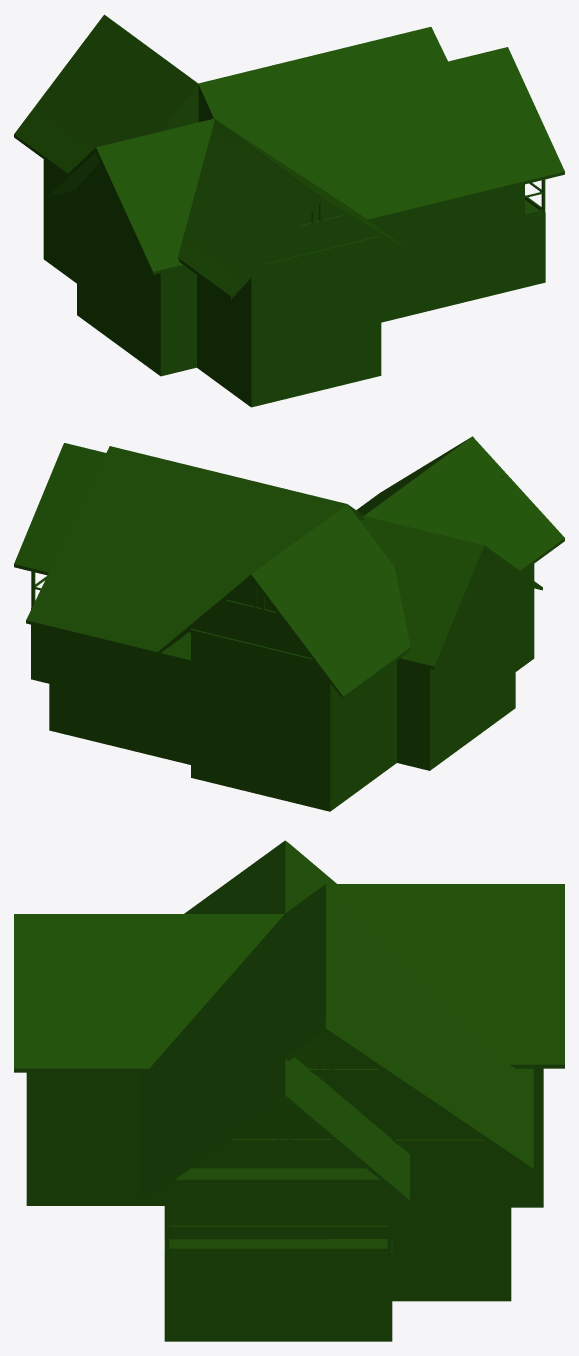
Rendered from BGHouse_03.fbx.
The picture shows the model from 3 angles, top to bottom: view 1: azimuth 30°, elevation 25°; view 2: azimuth 150°, elevation 25°; view 3: azimuth 270°, elevation 25°; orthographic projection. The views are drawn at different scales.
Parts seen in each view (by area): view 1: BGHouse_03; view 2: BGHouse_03; view 3: BGHouse_03.
Boxes of the visible parts, x1,y1,x2,y2 form: BGHouse_03: (14, 14, 564, 407); BGHouse_03: (14, 436, 564, 811); BGHouse_03: (14, 840, 564, 1341).
Bounding box in the file's own units: 6.54 × 3.37 × 5.97.
